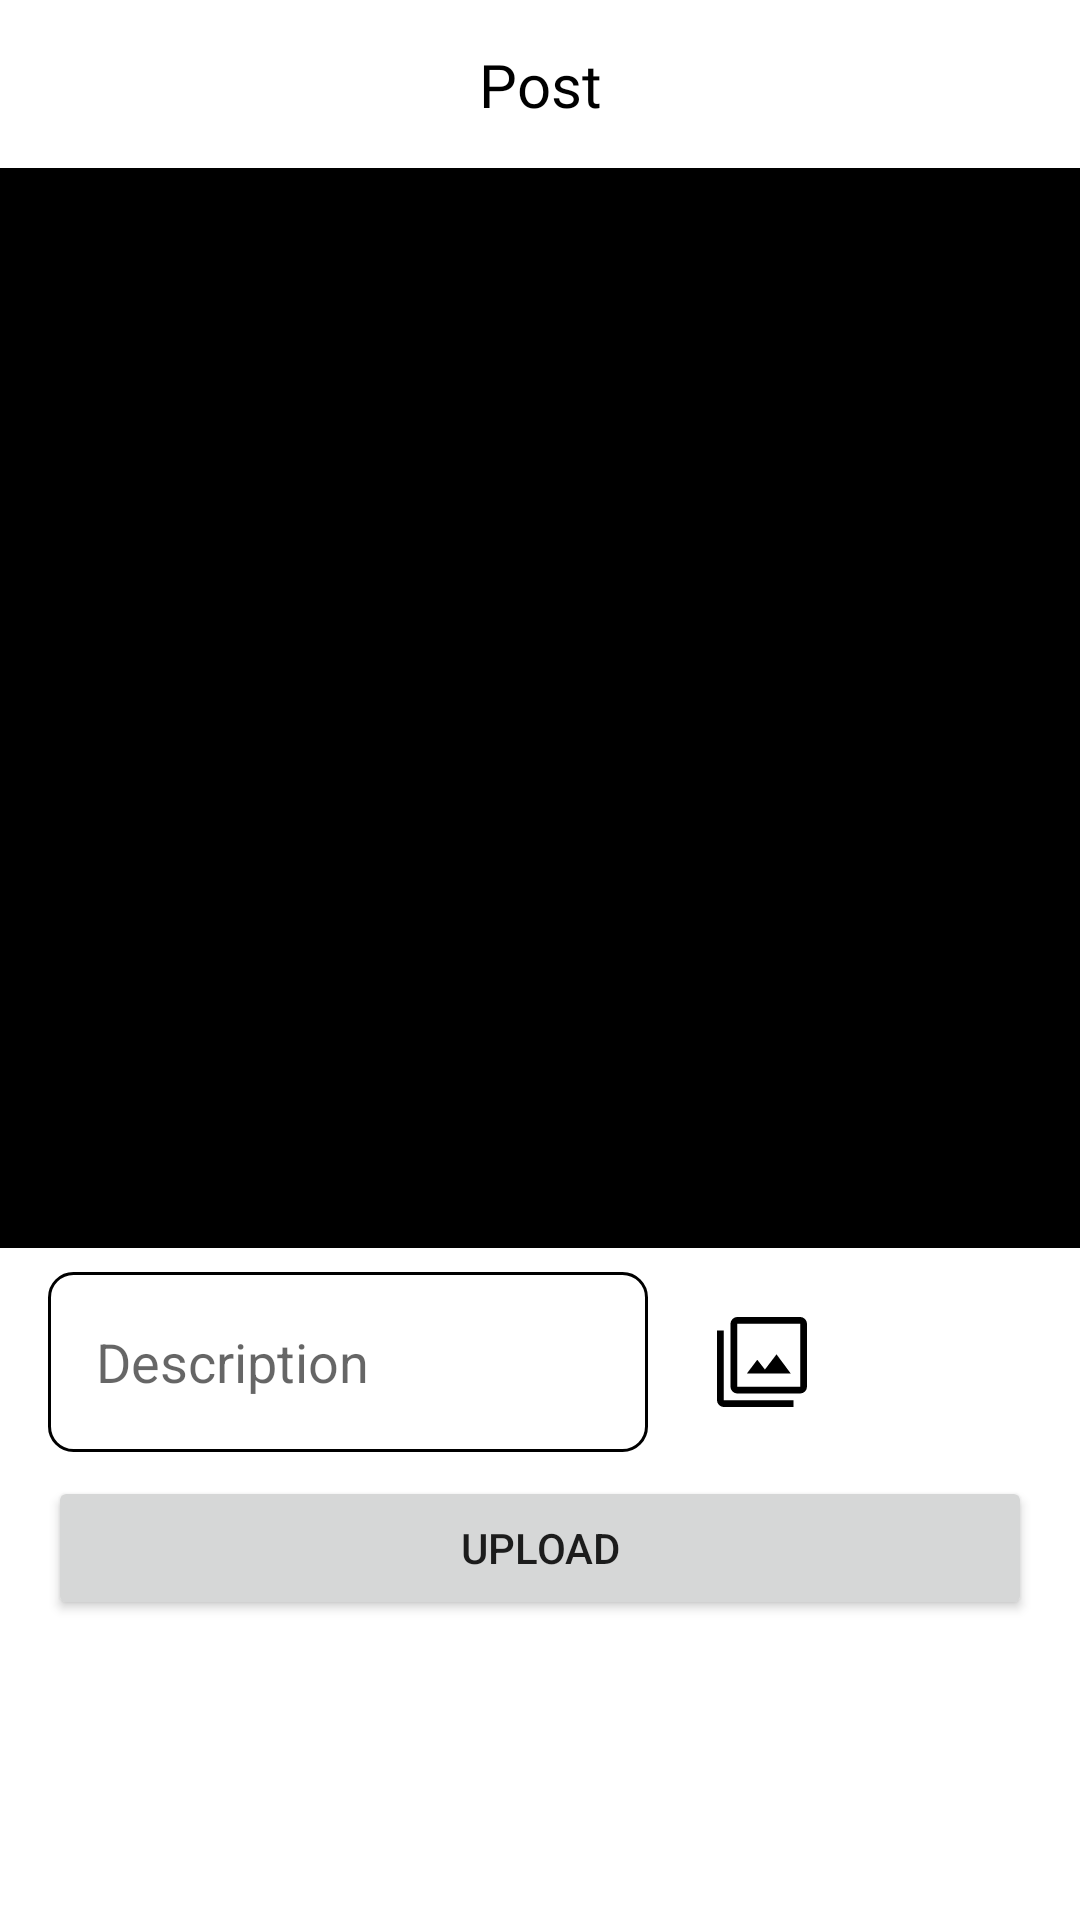

Screen size 1080×1920. Icon name, then its box in pixels as (x1,y1,x2,y2):
gallery: (717,1317,807,1407)
